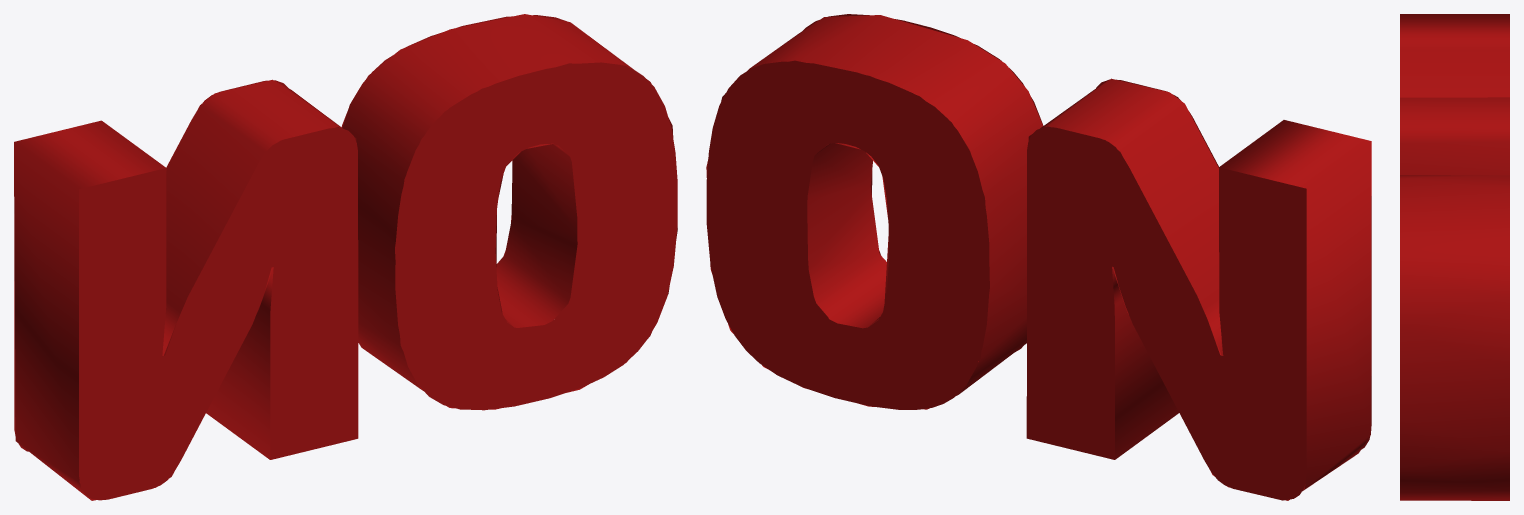
3 views of the same model, side by side, from view 1: azimuth 30°, elevation 25°; view 2: azimuth 150°, elevation 25°; view 3: azimuth 270°, elevation 25° (orthographic). The views are drawn at different scales.
Parts seen in each view (by area): view 1: Text; view 2: Text; view 3: Text.
Boxes of the visible parts, x1,y1,x2,y2 form: Text: (14, 14, 677, 500); Text: (706, 14, 1371, 500); Text: (1400, 14, 1509, 500).
Size of the model in its own units: 4.27 by 2.25 by 0.8.
